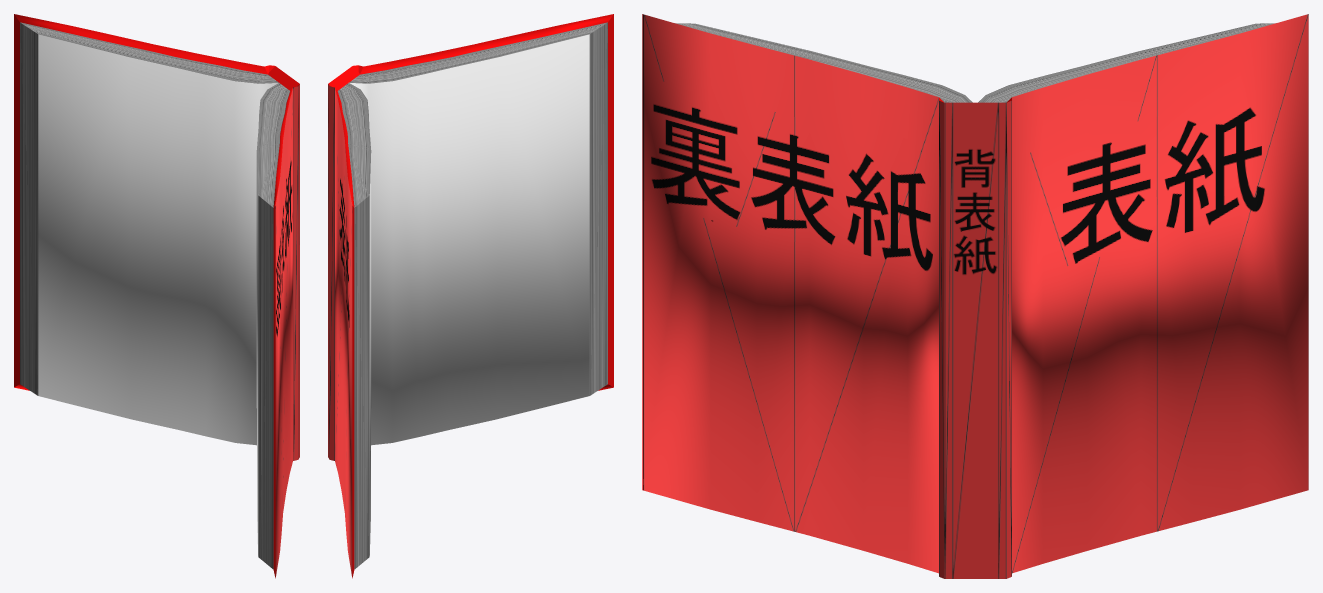
The model's file is Book.fbx.
3 renders of one model, left to right at view 1: azimuth 30°, elevation 25°; view 2: azimuth 150°, elevation 25°; view 3: azimuth 270°, elevation 25°, orthographic. The views are drawn at different scales.
Visible parts, largest first — view 1: Book.001; view 2: Book.001; view 3: Book.001.
Part boxes in pixels (left/top/right/bottom): Book.001: left=14, top=14, right=299, bottom=578; Book.001: left=328, top=14, right=613, bottom=578; Book.001: left=642, top=14, right=1308, bottom=578.
Bounding box in the file's own units: 31.97 × 79.97 × 101.
